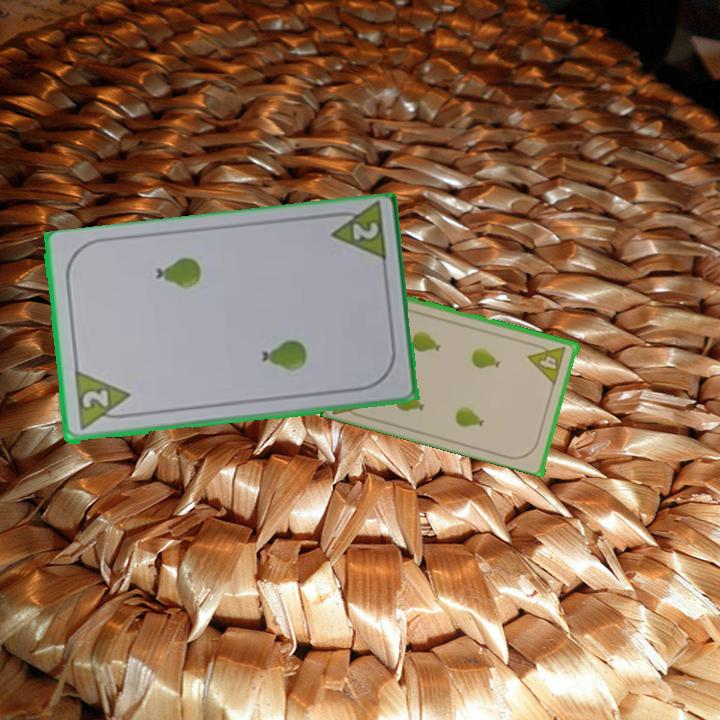2p: (323, 202, 389, 268), (70, 369, 134, 434)
4p: (525, 339, 569, 386)
